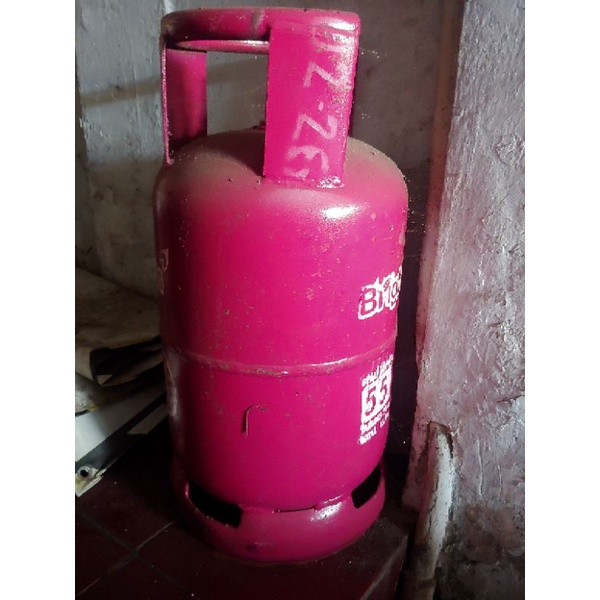bright_gas: (152, 7, 410, 564)
